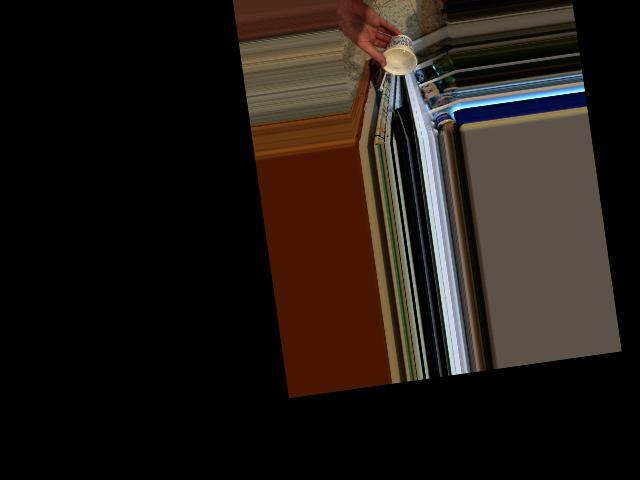cotage: (379, 32, 416, 75)
